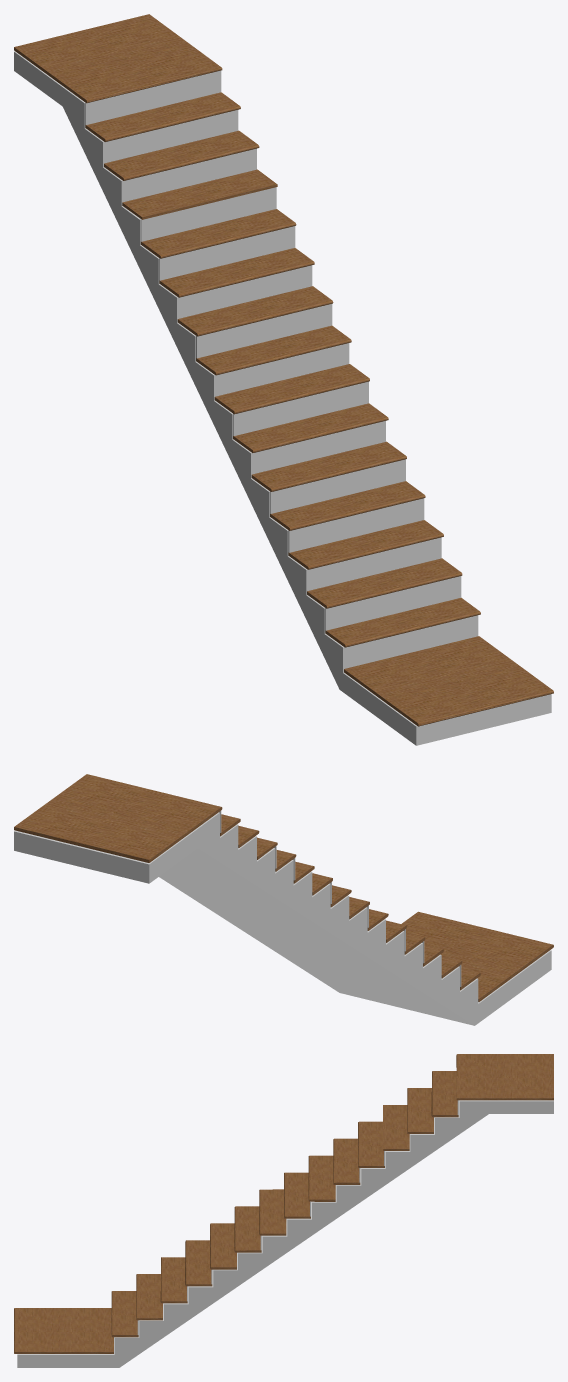
Rendered from les.glb.
3 views of the same model, one above another, from view 1: azimuth 30°, elevation 25°; view 2: azimuth 150°, elevation 25°; view 3: azimuth 270°, elevation 25° (orthographic). The views are drawn at different scales.
Parts seen in each view (by area): view 1: Wd-Walnut Horizontal.2, Paint-01.1; view 2: Paint-01.1, Wd-Walnut Horizontal.2; view 3: Wd-Walnut Horizontal.2, Paint-01.1.
Boxes of the visible parts, x1,y1,x2,y2 form: Wd-Walnut Horizontal.2: (14,14,553,726); Paint-01.1: (14,51,551,745); Paint-01.1: (14,810,551,1025); Wd-Walnut Horizontal.2: (14,774,553,1001); Wd-Walnut Horizontal.2: (14,1054,553,1353); Paint-01.1: (17,1100,553,1367).
Bounding box in the file's own units: 110 × 314 × 570.
2 materials, 1 textured.
